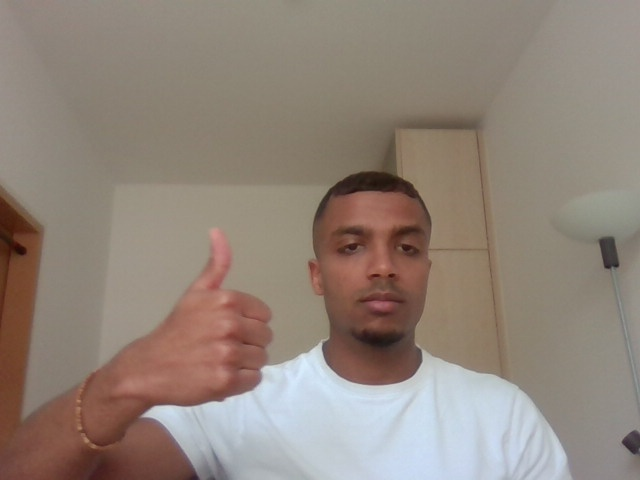yes: (113, 219, 289, 425)
